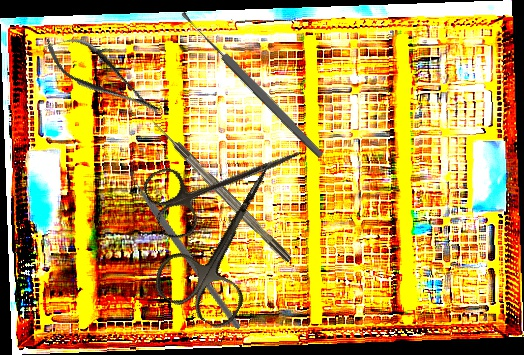Chopper: (88, 158, 285, 330)
Hook Surgical: (148, 116, 294, 265)
Iris Scissors: (147, 144, 309, 334), (139, 116, 314, 245)
Micro Scissor: (35, 21, 170, 132)
Surgical Spoon: (177, 8, 327, 161)
